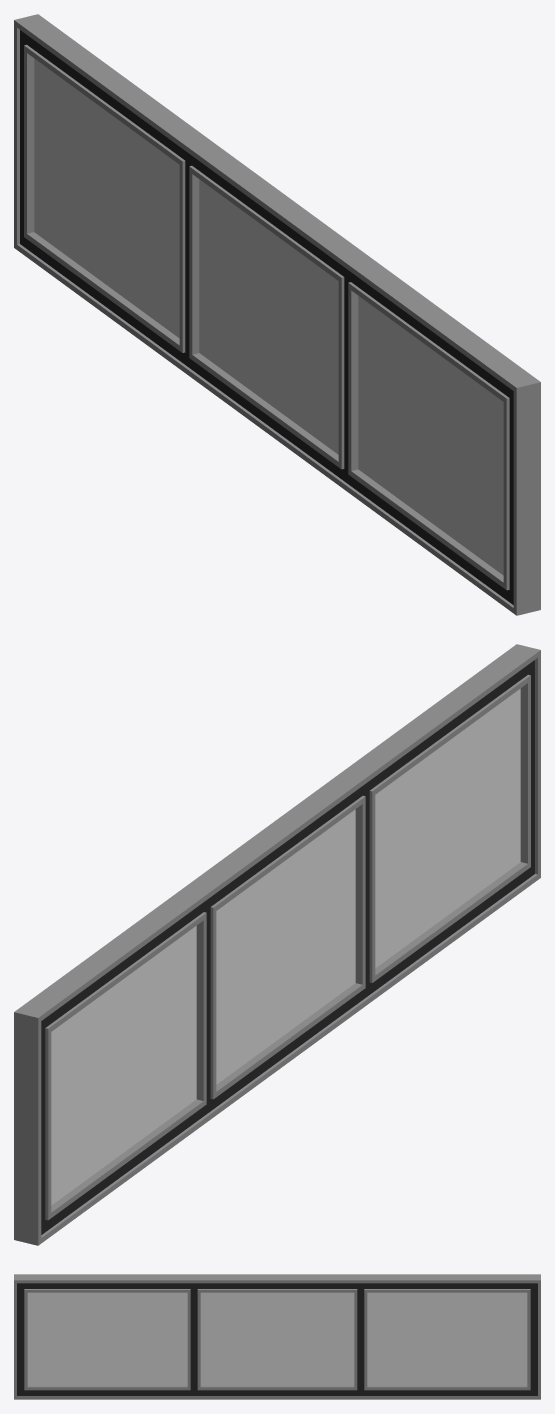
File: Fence_02.FBX
3 renders of one model, top to bottom at view 1: azimuth 30°, elevation 25°; view 2: azimuth 150°, elevation 25°; view 3: azimuth 270°, elevation 25°, orthographic. The views are drawn at different scales.
Visible parts, largest first — view 1: Fence_02_LOD0; view 2: Fence_02_LOD0; view 3: Fence_02_LOD0.
Boxes of the visible parts, left/top/right/bottom form: Fence_02_LOD0: left=14, top=14, right=540, bottom=615; Fence_02_LOD0: left=14, top=644, right=540, bottom=1245; Fence_02_LOD0: left=14, top=1274, right=540, bottom=1399.
Size of what is drawn, in the model's own units: 5 by 45 by 180.
